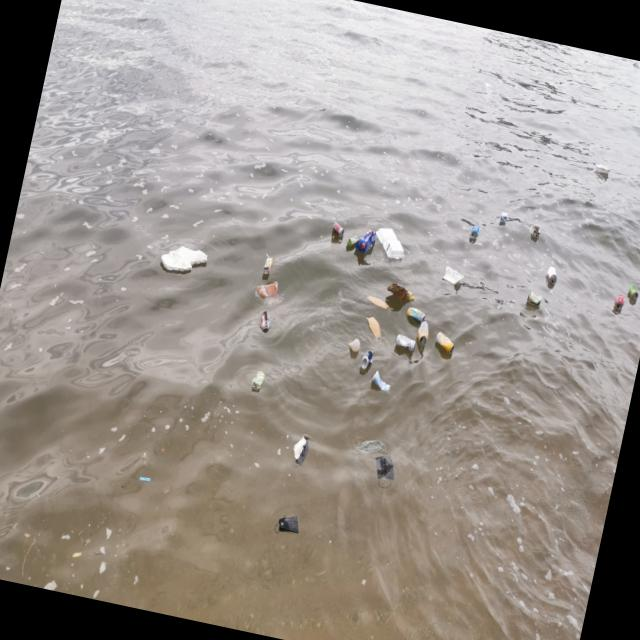can: (370, 371, 394, 397), (433, 332, 457, 356), (395, 335, 418, 355), (416, 320, 432, 347), (406, 306, 428, 324), (360, 349, 376, 373), (259, 311, 274, 334), (527, 290, 544, 309), (546, 266, 561, 286), (628, 283, 640, 301), (614, 296, 627, 312), (332, 223, 346, 237), (470, 225, 481, 241)
foam: (159, 243, 210, 281), (371, 226, 410, 262), (442, 266, 466, 288), (594, 163, 612, 176)
